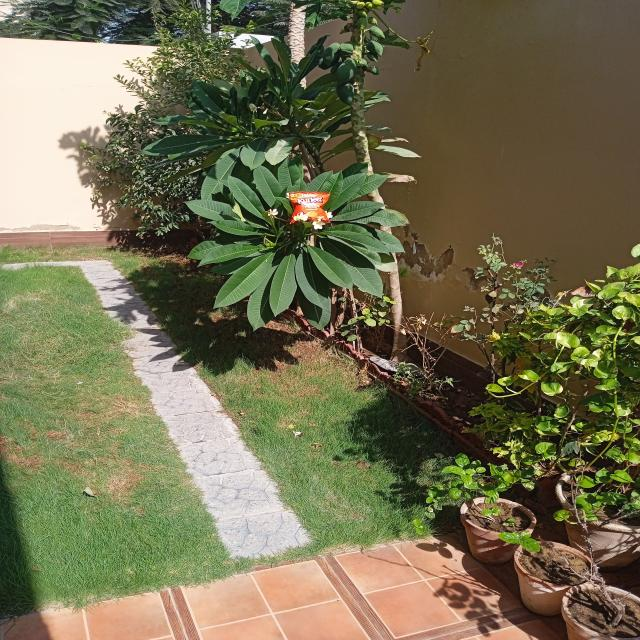Plastic: (284, 188, 334, 223)
